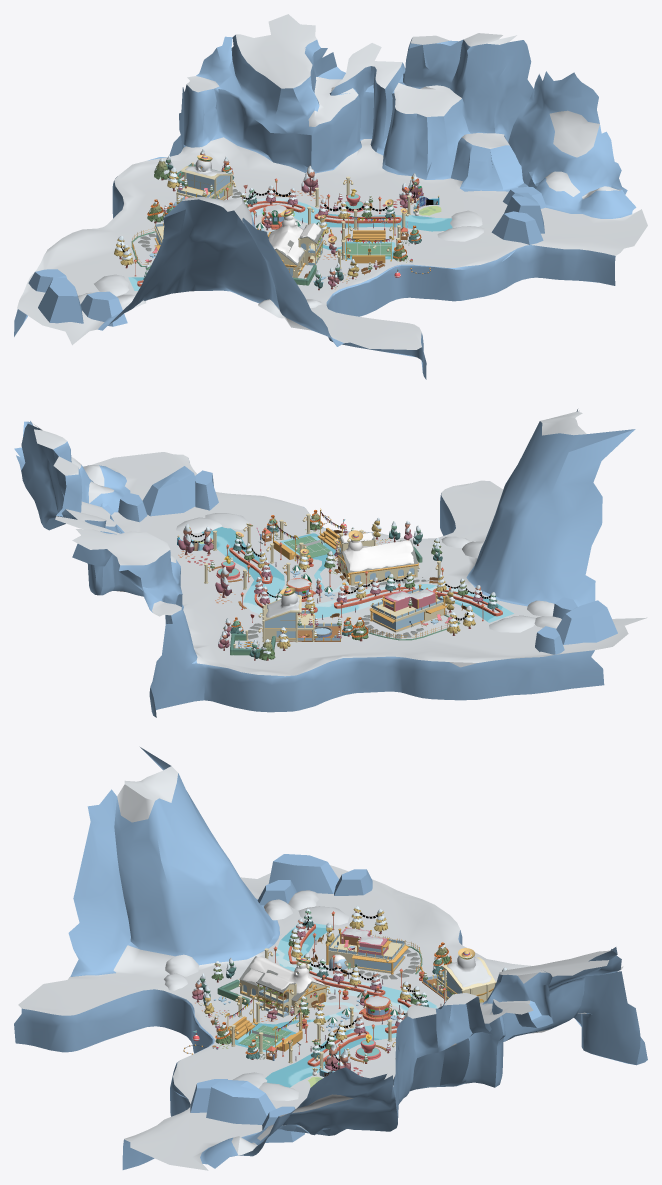
The model's file is Individual_BeverlyChills_CincoDeMayo_01.fbx.
The picture shows the model from 3 angles, top to bottom: view 1: azimuth 30°, elevation 25°; view 2: azimuth 150°, elevation 25°; view 3: azimuth 270°, elevation 25°; orthographic projection. The views are drawn at different scales.
Visible parts, largest first — view 1: pasted__BeverlyChillsRoad_01, pasted__polySurface154, pasted__Object_IceRock4, polySurface9, pasted__Object_IceRock8, pasted__Object_IceRock3, pasted__Object_RoadIslands, pasted__Object_IceRock6, pasted__Building_TennisCourt2, pasted__SnowPatch6, pasted__SnowPatch8, pasted__Object_IceRock5; view 2: pasted__BeverlyChillsRoad_01, pasted__polySurface154, polySurface9, pasted__Building_LuxuryHouse3, pasted__Object_IceRock6, pasted__Object_IceRock4, pasted__Object_RoadIslands, pasted__Object_IceRock8, pasted__Object_IceRock5, pasted__Object_IceRock7, pasted__SnowPatch8, pasted__SnowPatch6 (+2 smaller); view 3: pasted__BeverlyChillsRoad_01, pasted__polySurface154, pasted__Object_IceRock6, pasted__Building_LuxuryHouse3, pasted__Object_IceRock4, polySurface9, pasted__Object_RoadIslands, pasted__Object_IceRock5, pasted__Object_IceRock7, pasted__Object_IceRock3, pasted__SnowPatch8, pasted__Building_RoundCoffeeShop1.
Part boxes in pixels (left/top/right/bottom): pasted__BeverlyChillsRoad_01: left=14, top=14, right=647, bottom=379; pasted__polySurface154: left=267, top=214, right=323, bottom=277; pasted__Object_IceRock4: left=38, top=277, right=83, bottom=323; polySurface9: left=163, top=159, right=230, bottom=215; pasted__Object_IceRock8: left=491, top=211, right=543, bottom=244; pasted__Object_IceRock3: left=80, top=291, right=127, bottom=326; pasted__Object_RoadIslands: left=137, top=201, right=401, bottom=286; pasted__Object_IceRock6: left=504, top=192, right=544, bottom=233; pasted__Building_TennisCourt2: left=346, top=243, right=391, bottom=256; pasted__SnowPatch6: left=437, top=226, right=484, bottom=241; pasted__SnowPatch8: left=94, top=274, right=129, bottom=296; pasted__Object_IceRock5: left=28, top=269, right=66, bottom=292; pasted__BeverlyChillsRoad_01: left=14, top=409, right=647, bottom=717; pasted__polySurface154: left=336, top=533, right=418, bottom=585; polySurface9: left=263, top=592, right=341, bottom=641; pasted__Building_LuxuryHouse3: left=372, top=588, right=443, bottom=632; pasted__Object_IceRock6: left=142, top=466, right=196, bottom=516; pasted__Object_IceRock4: left=556, top=600, right=617, bottom=644; pasted__Object_RoadIslands: left=229, top=547, right=502, bottom=616; pasted__Object_IceRock8: left=195, top=470, right=218, bottom=510; pasted__Object_IceRock5: left=535, top=626, right=564, bottom=654; pasted__Object_IceRock7: left=118, top=493, right=147, bottom=522; pasted__SnowPatch8: left=489, top=615, right=535, bottom=632; pasted__SnowPatch6: left=205, top=513, right=249, bottom=529; pasted__BeverlyChillsRoad_01: left=14, top=747, right=647, bottom=1170; pasted__polySurface154: left=239, top=956, right=329, bottom=1017; pasted__Object_IceRock6: left=206, top=1079, right=275, bottom=1124; pasted__Building_LuxuryHouse3: left=328, top=927, right=405, bottom=973; pasted__Object_IceRock4: left=268, top=854, right=338, bottom=893; polySurface9: left=422, top=954, right=495, bottom=1001; pasted__Object_RoadIslands: left=288, top=924, right=415, bottom=1066; pasted__Object_IceRock5: left=334, top=869, right=372, bottom=895; pasted__Object_IceRock7: left=262, top=1106, right=304, bottom=1142; pasted__Object_IceRock3: left=257, top=880, right=296, bottom=905; pasted__SnowPatch8: left=298, top=906, right=349, bottom=925; pasted__Building_RoundCoffeeShop1: left=359, top=995, right=392, bottom=1021.
Size of the model in its own units: 11927 by 3384 by 10397.
